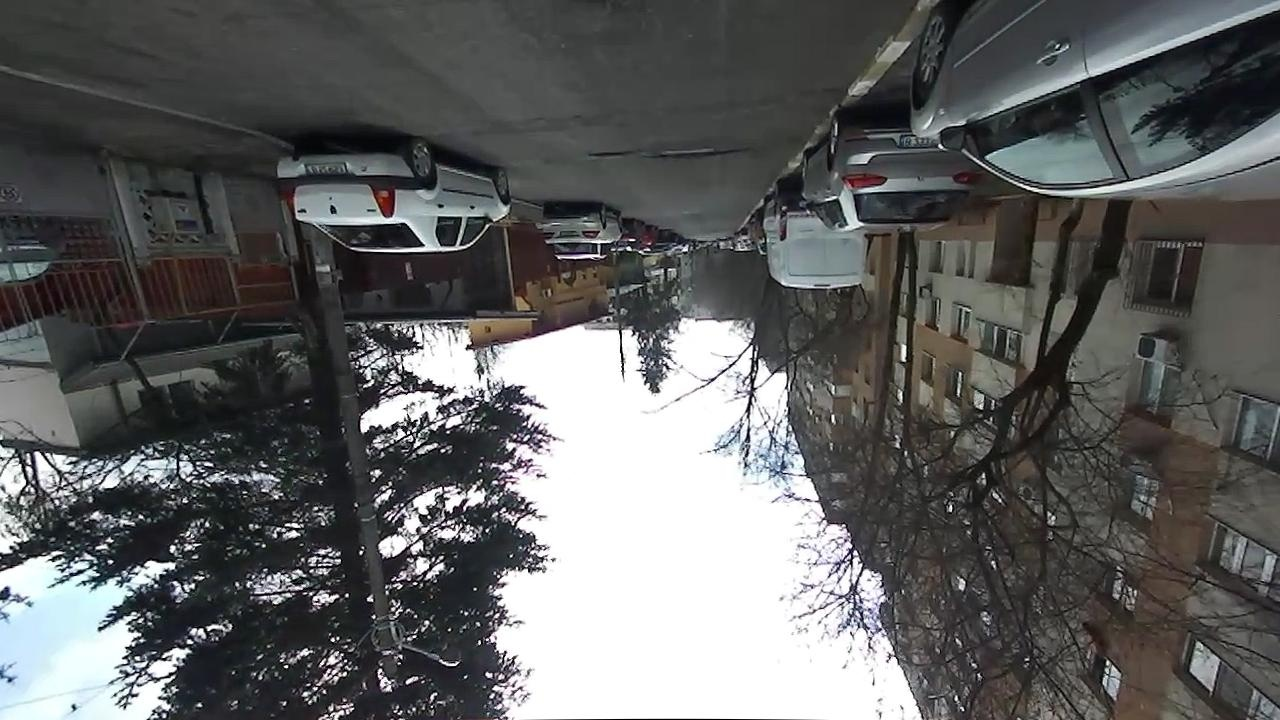pothole: (659, 146, 743, 160), (587, 149, 632, 156)
